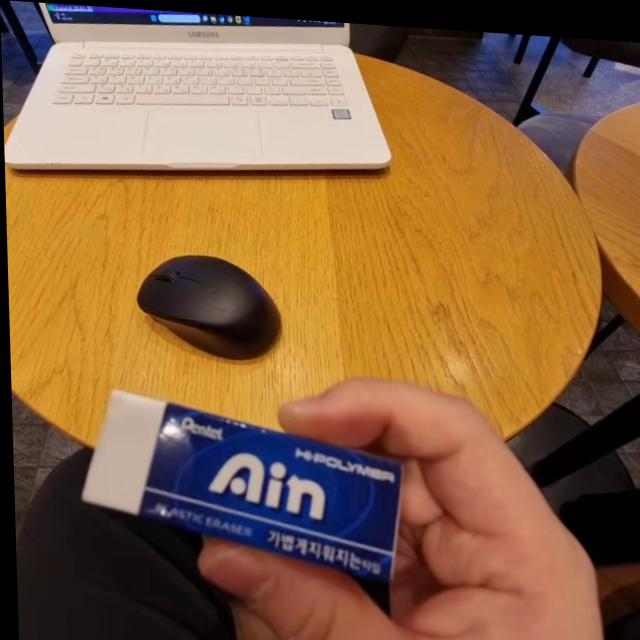grab_eraser: (45, 346, 640, 640)
mouse: (121, 235, 303, 375)
